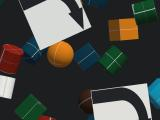Right: (18, 0, 92, 50), (91, 83, 152, 120)
